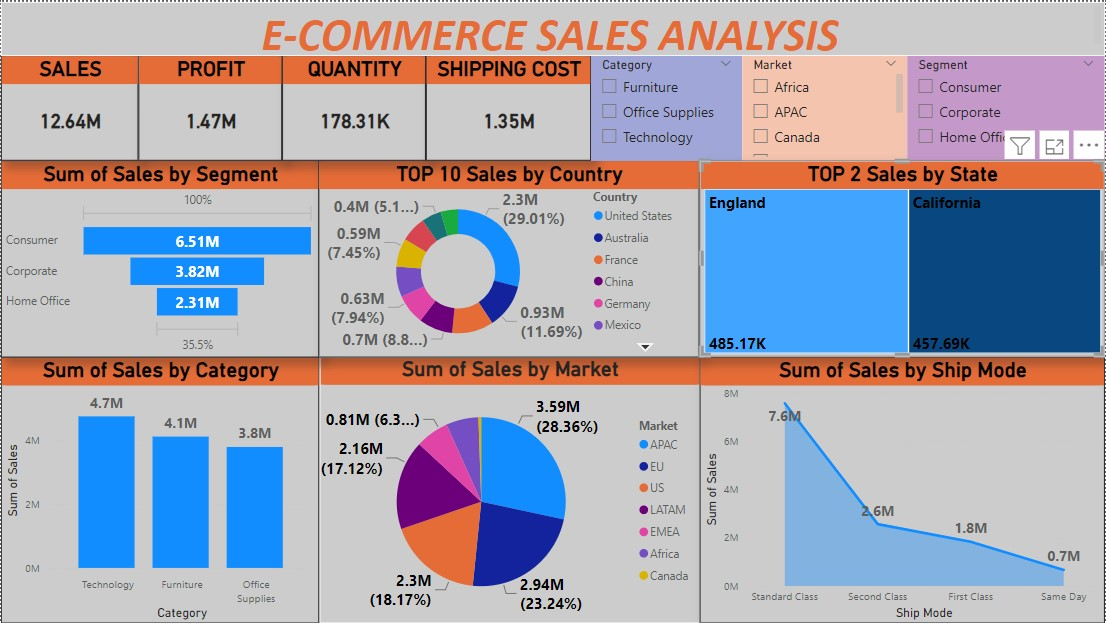

The dashboard page shown, as its layout file describes it:
{"tool":"powerbi","page":{"name":"Page 1","canvas":[1280,720],"ordinal":0},"visuals":[{"type":"columnChart","fields":{"Category":["Orders.Category"],"Y":["Sum(Orders.Sales)"]},"box":[0,411.7,369.1,308.7],"z":0},{"type":"pieChart","fields":{"Category":["Orders.Market"],"Y":["Sum(Orders.Sales)"]},"box":[369.1,411.7,441.9,308.7],"z":1000},{"type":"areaChart","fields":{"Category":["Orders.Ship Mode"],"Y":["Sum(Orders.Sales)"]},"box":[810.1,411.6,469.6,308.7],"z":2000},{"type":"funnel","fields":{"Category":["Orders.Segment"],"Y":["Sum(Orders.Sales)"]},"box":[0,183.6,368.7,227.9],"z":3000},{"type":"donutChart","title":"TOP 10 Sales by Country","fields":{"Category":["Orders.Country"],"Y":["Sum(Orders.Sales)"]},"box":[368.7,183.6,441.5,227.9],"z":4000},{"type":"treemap","title":"TOP 2 Sales by State","fields":{"Group":["Orders.State"],"Values":["Sum(Orders.Sales)"]},"box":[810.1,184.1,469.6,227.5],"z":5000},{"type":"card","title":"SALES","fields":{"Values":["Sum(Orders.Sales)"]},"box":[0,62.3,159.4,121.7],"z":6000},{"type":"card","title":"PROFIT","fields":{"Values":["Sum(Orders.Profit)"]},"box":[159.4,62.3,166.7,121.7],"z":7000},{"type":"card","title":"QUANTITY","fields":{"Values":["Sum(Orders.Quantity)"]},"box":[326.1,62.3,166.7,121.7],"z":8000},{"type":"card","title":"SHIPPING COST","fields":{"Values":["Sum(Orders.Shipping Cost)"]},"box":[492.8,62.3,191.3,121.7],"z":9000},{"type":"slicer","fields":{"Values":["Orders.Category"]},"box":[684.1,59.4,175.4,124.6],"z":10000},{"type":"slicer","fields":{"Values":["Orders.Market"]},"box":[859.4,59.4,191.3,124.6],"z":11000},{"type":"slicer","fields":{"Values":["Orders.Segment"]},"box":[1050.7,59.4,229,124.6],"z":12000},{"type":"textbox","box":[0,0,1279.7,62.3],"z":13000}]}

Visuals, with their boxes in screenshot pixels (x1, y1, x2, y2), scaled from the page's 1280x720 canvas onto the 1106x623 screenshot:
columnChart - Orders.Category x Sum(Orders.Sales): (x1=0, y1=356, x2=319, y2=622)
pieChart - Orders.Market x Sum(Orders.Sales): (x1=319, y1=356, x2=701, y2=622)
areaChart - Orders.Ship Mode x Sum(Orders.Sales): (x1=700, y1=356, x2=1105, y2=622)
funnel - Orders.Segment x Sum(Orders.Sales): (x1=0, y1=159, x2=319, y2=356)
"TOP 10 Sales by Country" donutChart: (x1=319, y1=159, x2=700, y2=356)
"TOP 2 Sales by State" treemap: (x1=700, y1=159, x2=1105, y2=356)
"SALES" card: (x1=0, y1=54, x2=138, y2=159)
"PROFIT" card: (x1=138, y1=54, x2=282, y2=159)
"QUANTITY" card: (x1=282, y1=54, x2=426, y2=159)
"SHIPPING COST" card: (x1=426, y1=54, x2=591, y2=159)
slicer - Orders.Category: (x1=591, y1=51, x2=743, y2=159)
slicer - Orders.Market: (x1=743, y1=51, x2=908, y2=159)
slicer - Orders.Segment: (x1=908, y1=51, x2=1105, y2=159)
textbox: (x1=0, y1=0, x2=1105, y2=54)
